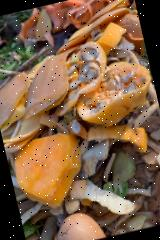organic: (24, 17, 160, 149), (7, 125, 93, 220), (66, 158, 145, 230), (21, 0, 139, 46), (43, 198, 115, 240)
